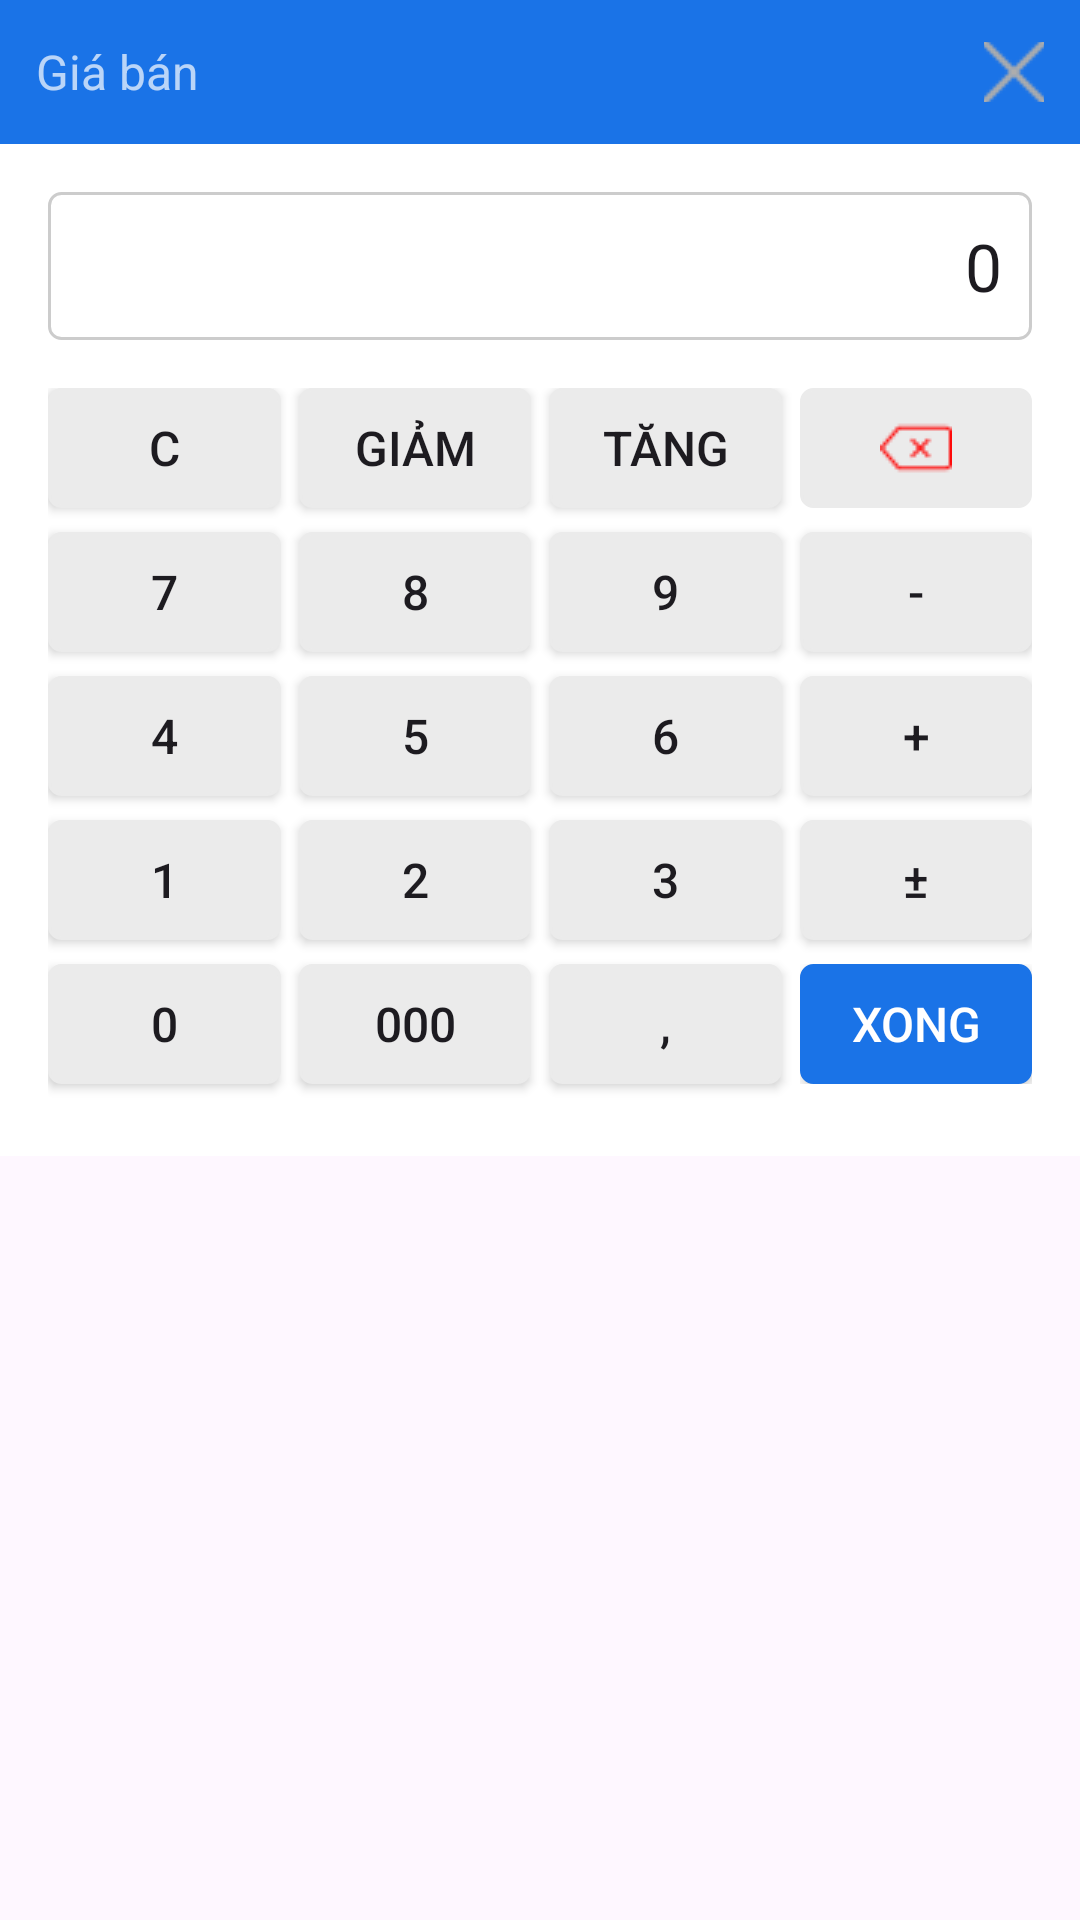

Screen size 1080×1920. Icon name, then its box in pixels as bbox=[x1, y1, x2, y2]:
close: bbox=[984, 42, 1044, 102]
Xóa: bbox=[800, 388, 1032, 508]
